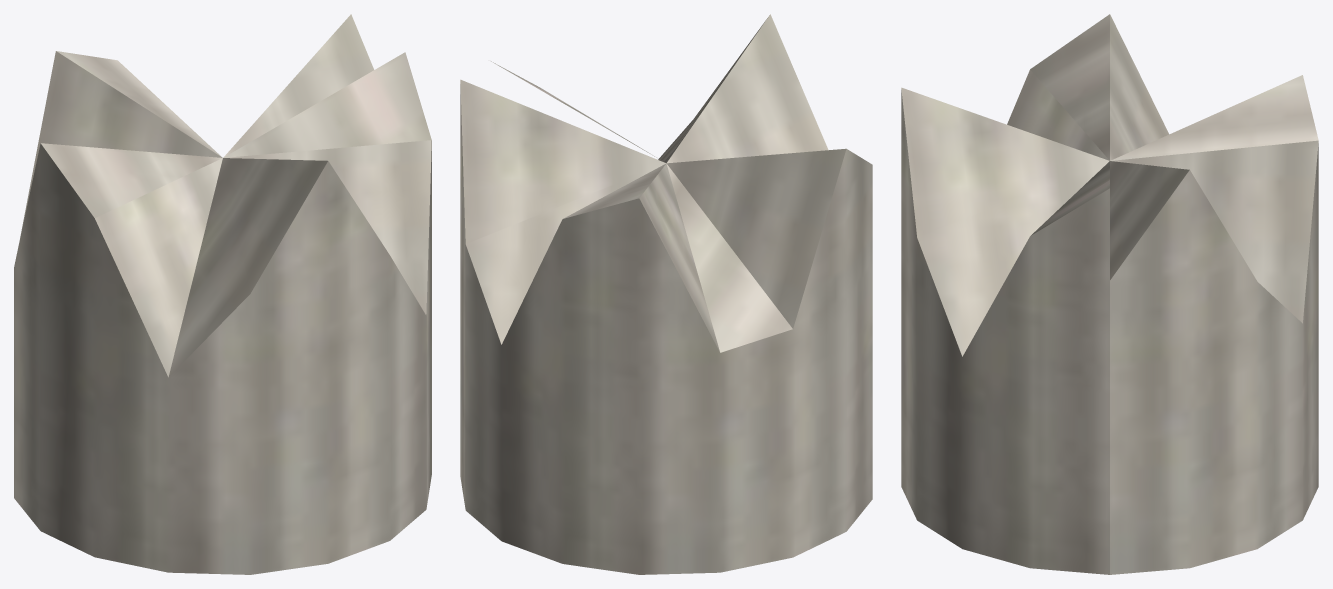
File: debris_dc_column_drum.glb
3 views of the same model, side by side, from view 1: azimuth 30°, elevation 25°; view 2: azimuth 150°, elevation 25°; view 3: azimuth 270°, elevation 25° (orthographic).
Parts seen in each view (by area): view 1: debris_dc_column_drum; view 2: debris_dc_column_drum; view 3: debris_dc_column_drum.
Part boxes in pixels (x1,y1,x2,y2): debris_dc_column_drum: (14, 14, 431, 574); debris_dc_column_drum: (460, 14, 872, 574); debris_dc_column_drum: (901, 14, 1318, 574).
Bounding box in the file's own units: 1.8 × 1.9 × 1.8.
1 material, 1 textured.
